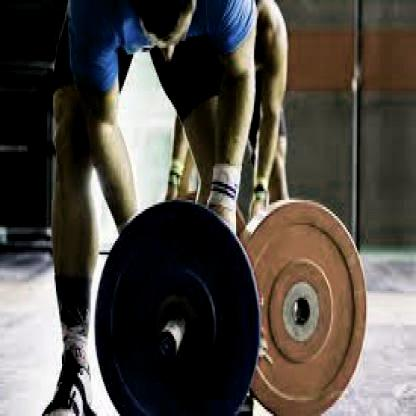Barbell: (152, 321, 177, 367)
